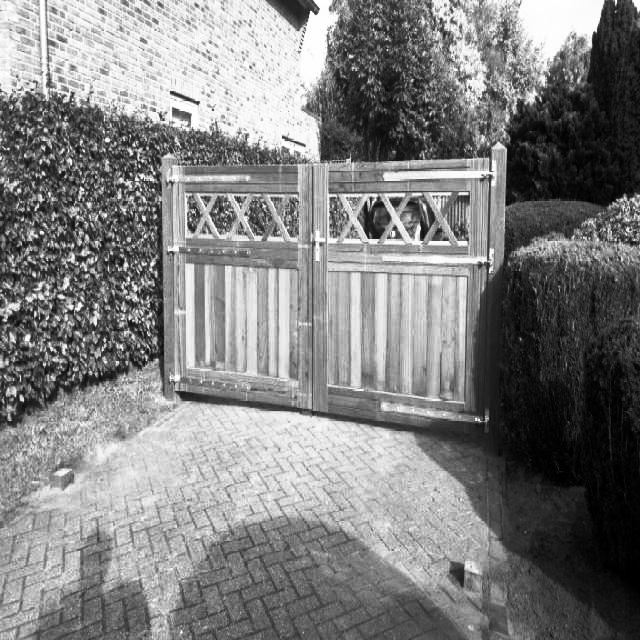fences: (174, 149, 511, 436)
